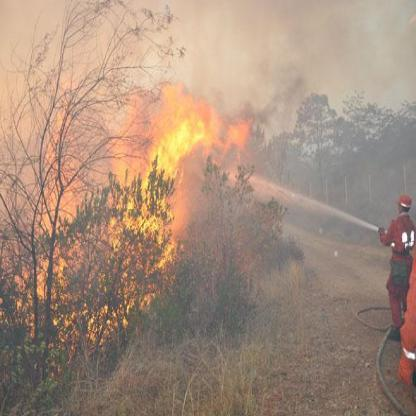fire: (33, 92, 227, 330)
